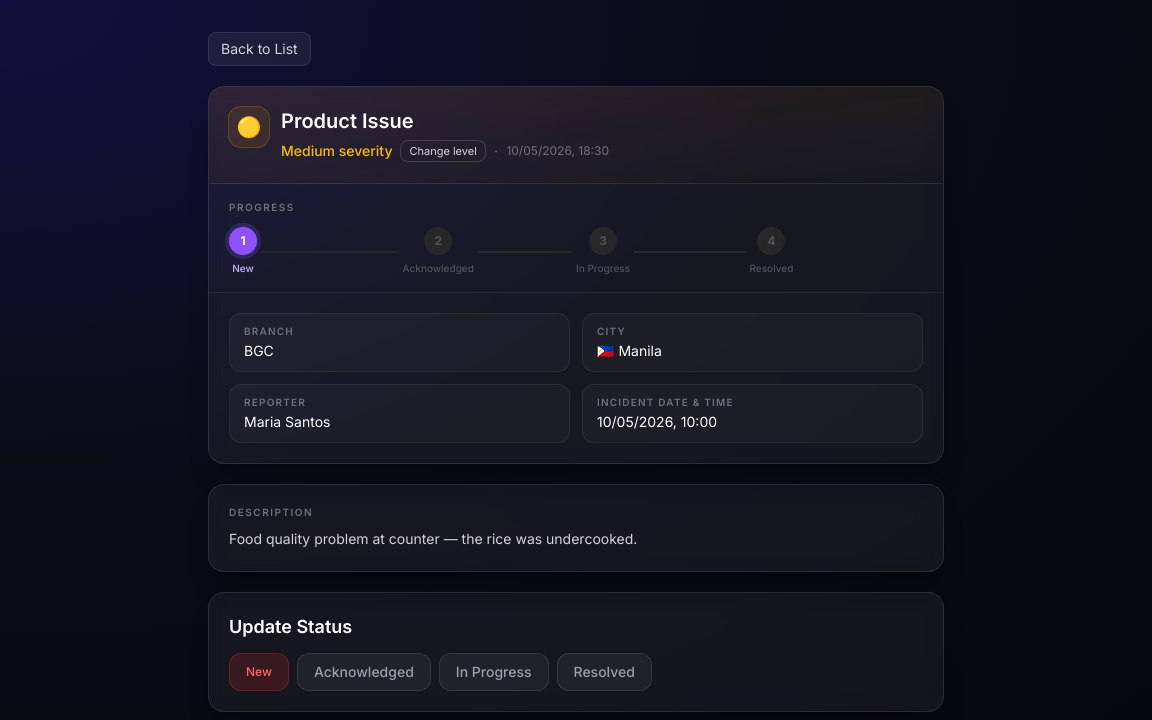
Test: AdminIncidentDetailPage (detail) › status update › shows status error on PATCH failure
Expected: the heading "Product Issue" is shown, [281,109,414,133]
Click the button "Acknowledged" at coordinates (364, 672), box [297,653,431,691]
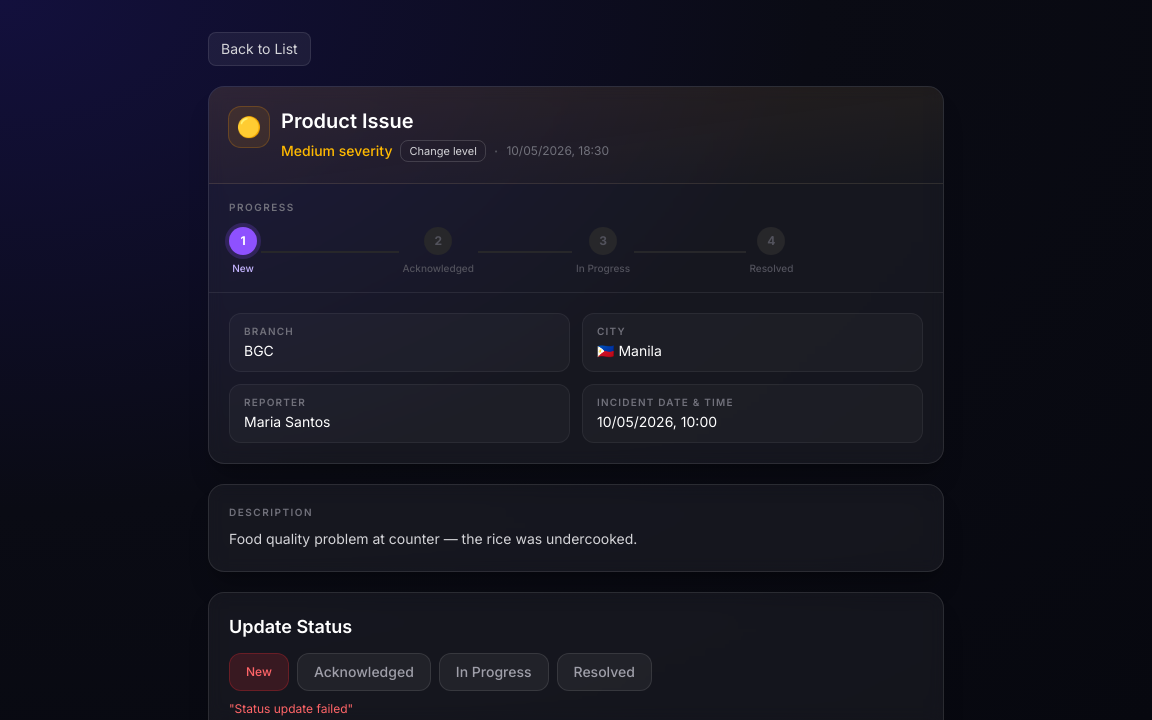
Expected: the text "\"Status update failed\"" is shown, [229,701,353,716]
